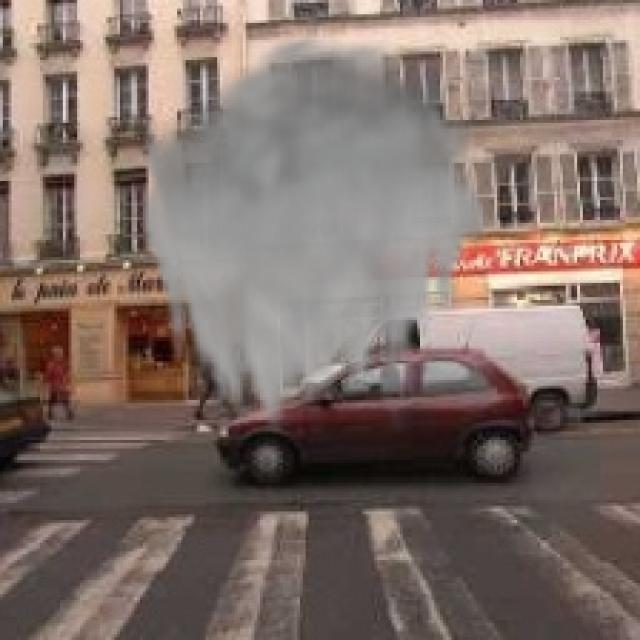Smoke: (137, 26, 494, 446)
